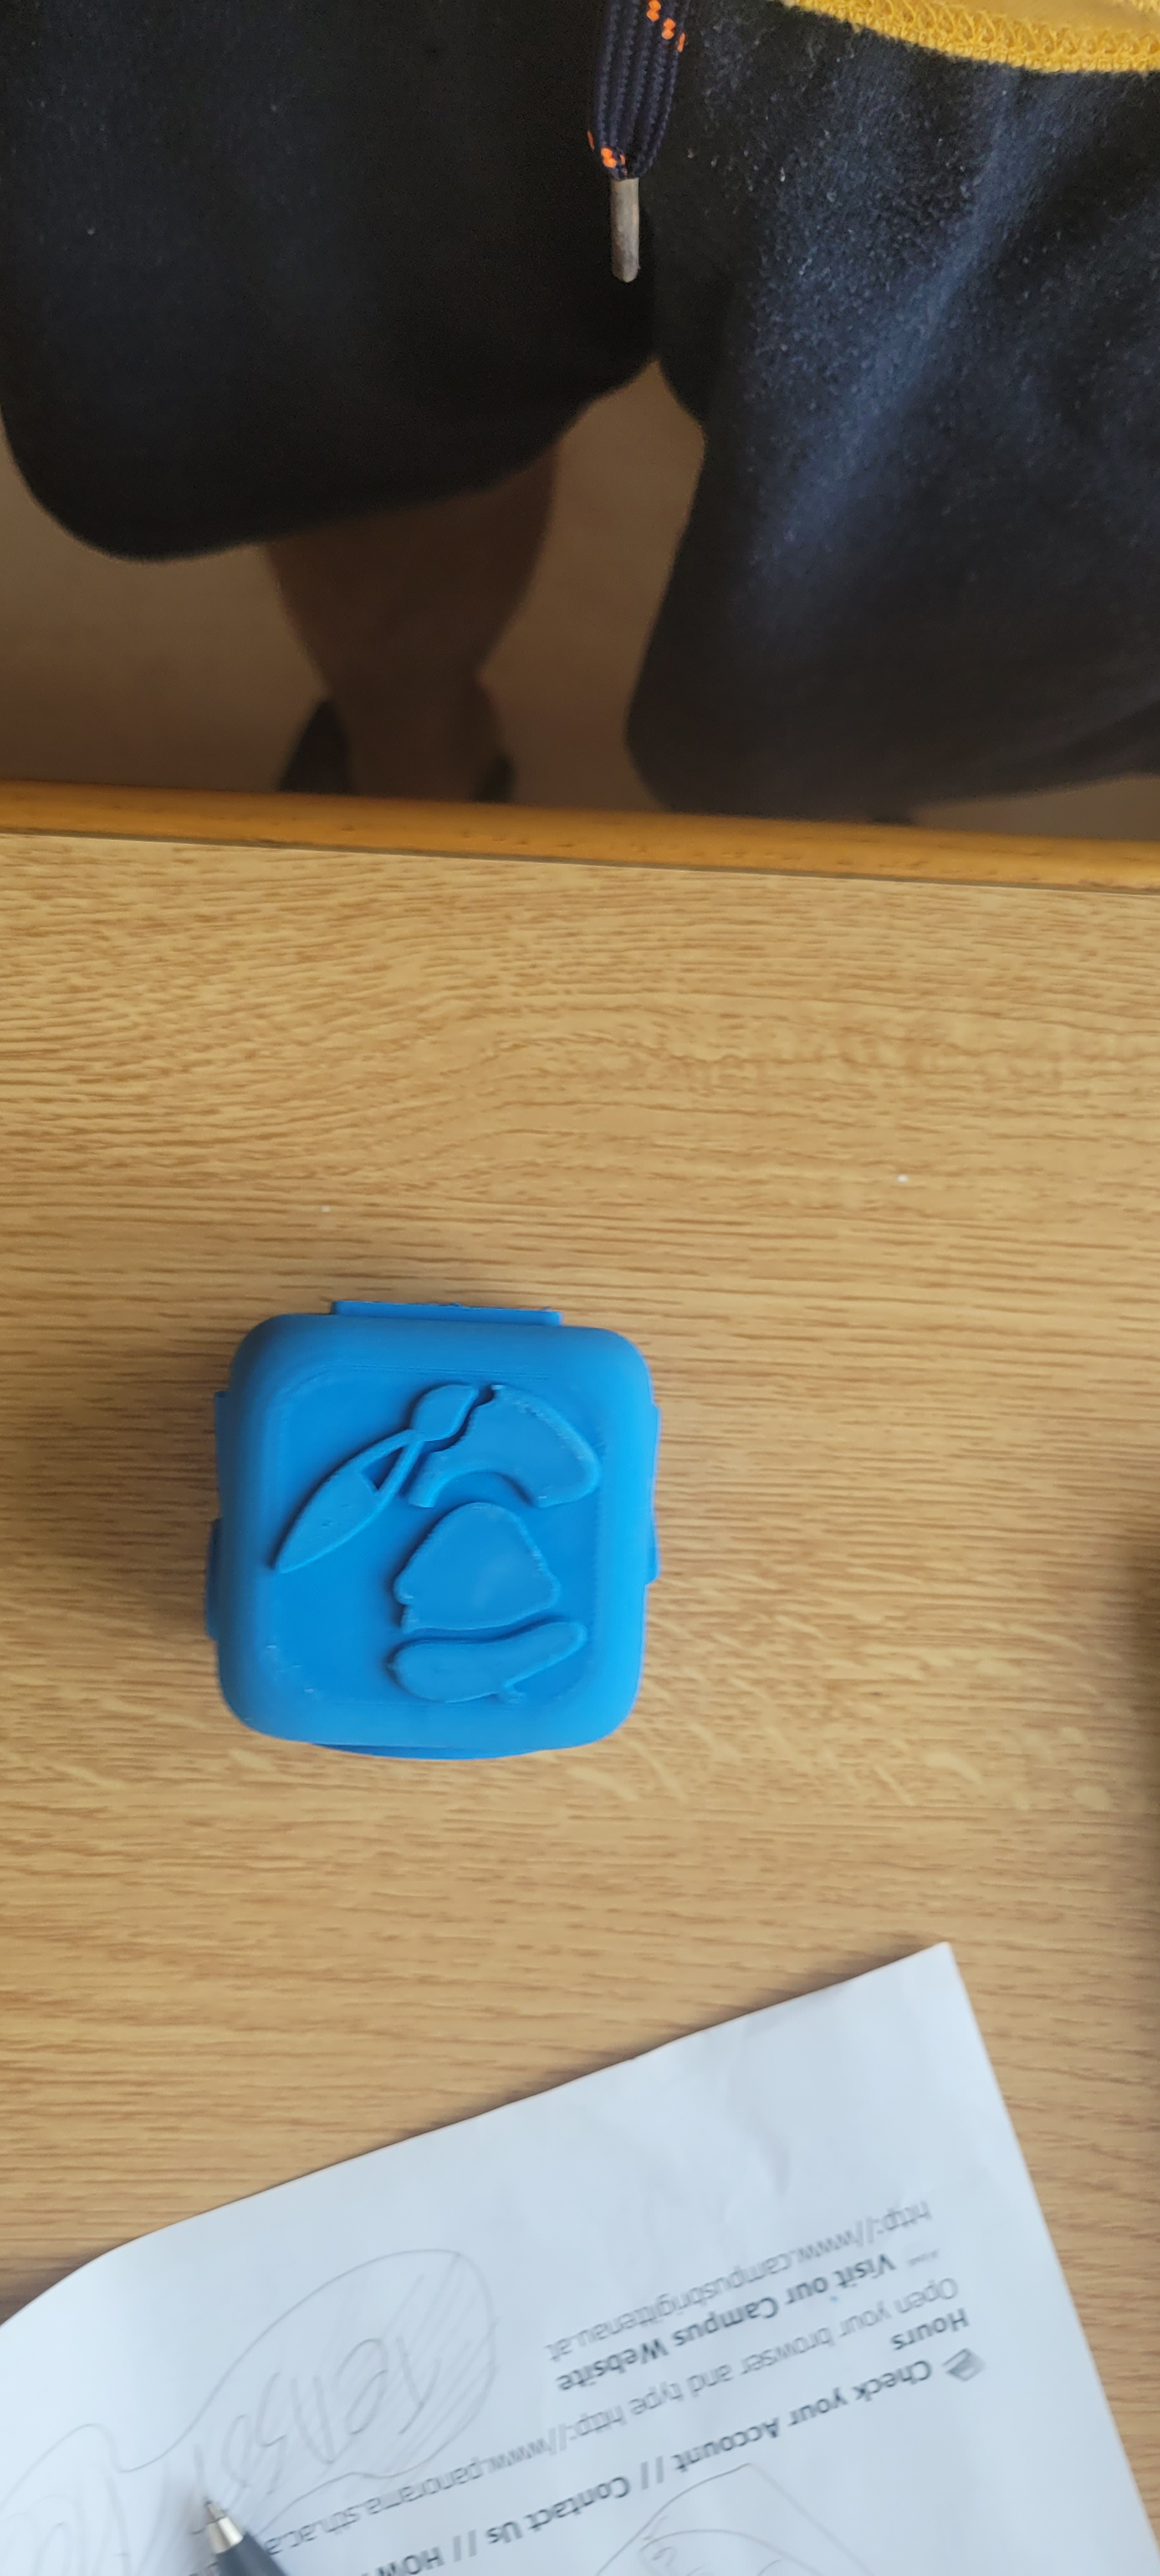Artist_Info: (207, 1268, 669, 1741)
